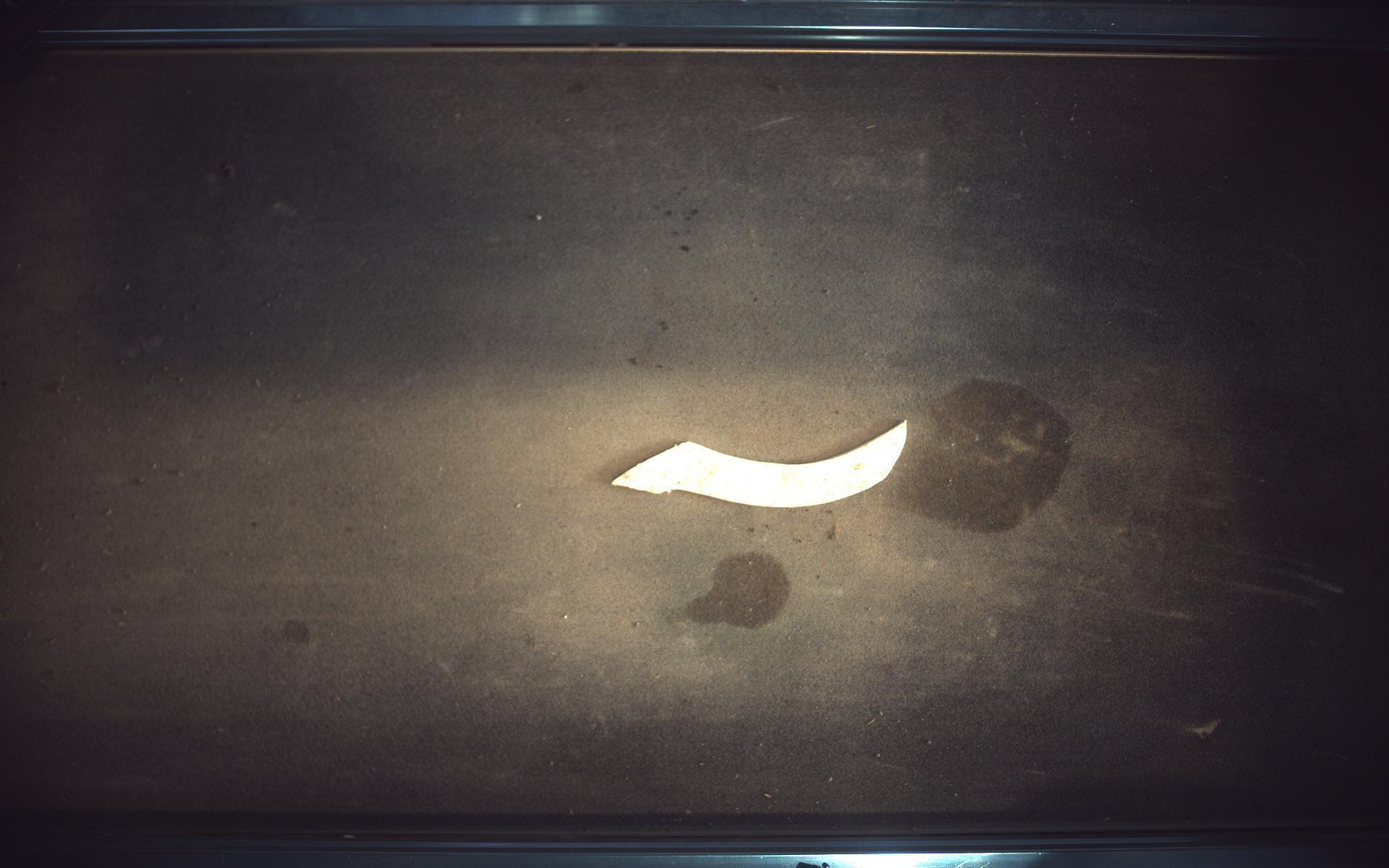plastic: (613, 420, 909, 509)
